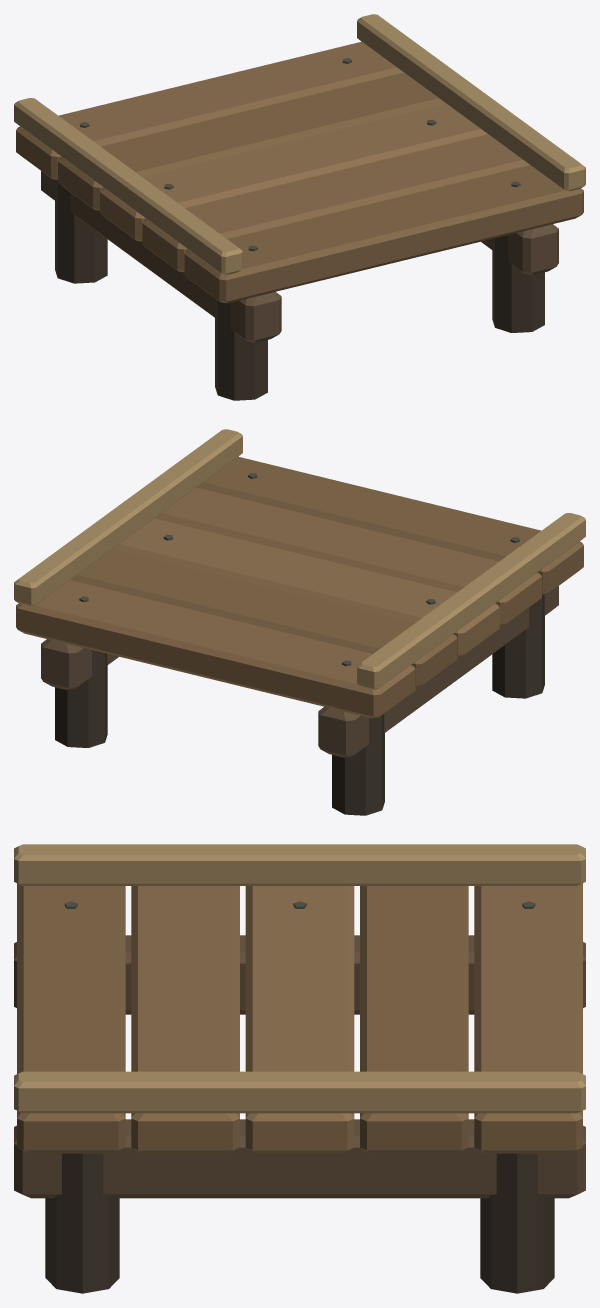
The model's file is boardwalk_straight.glb.
3 renders of one model, top to bottom at view 1: azimuth 30°, elevation 25°; view 2: azimuth 150°, elevation 25°; view 3: azimuth 270°, elevation 25°, orthographic. The views are drawn at different scales.
Parts seen in each view (by area): view 1: geometry; view 2: geometry; view 3: geometry.
Part boxes in pixels (box(x1,y1,x2,y2)): geometry: box(14, 14, 585, 400); geometry: box(14, 429, 585, 815); geometry: box(14, 844, 585, 1293).
Bounding box in the file's own units: 1 × 0.43 × 1.
